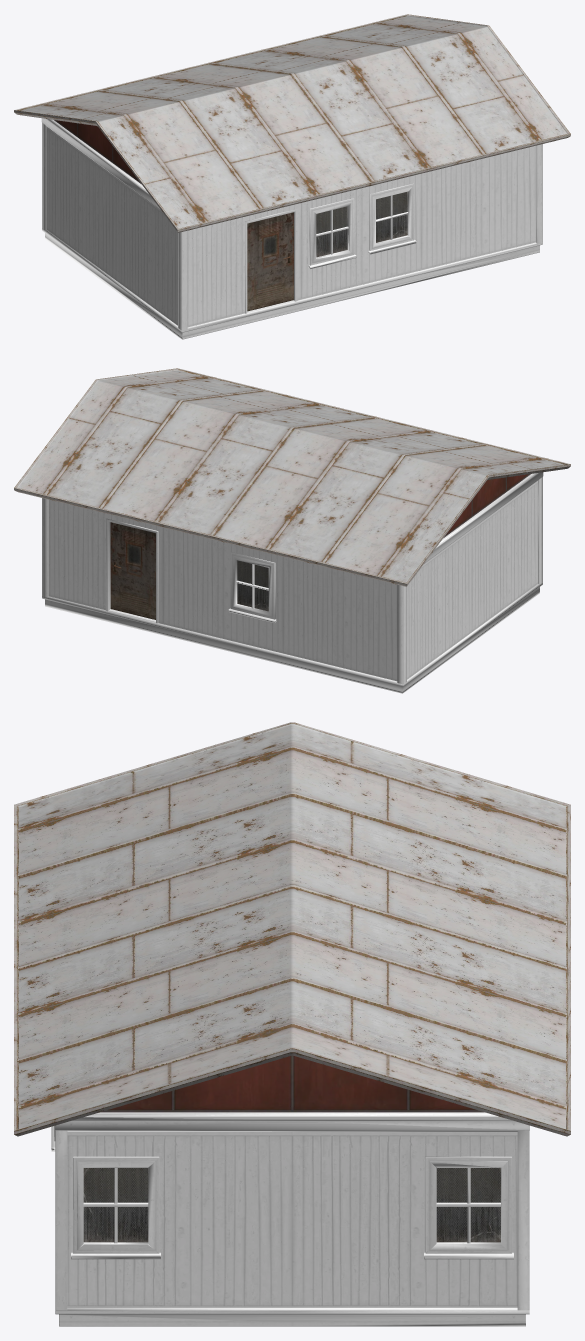
The model's file is nuclear_missile_silo_portacabin_building_600_900_a.glb.
3 renders of one model, top to bottom at view 1: azimuth 30°, elevation 25°; view 2: azimuth 150°, elevation 25°; view 3: azimuth 270°, elevation 25°, orthographic. The views are drawn at different scales.
Parts seen in each view (by area): view 1: portacabin_building_roof_600_900_b, portacabin_600_900_a_LOD0, industrial_doors_a_d_static (2); view 2: portacabin_building_roof_600_900_b, portacabin_600_900_a_LOD0, industrial_doors_a_d_static (3); view 3: portacabin_building_roof_600_900_b, portacabin_600_900_a_LOD0.
Part boxes in pixels (<box>): portacabin_building_roof_600_900_b: <box>14,14,570,232</box>; portacabin_600_900_a_LOD0: <box>41,118,542,339</box>; industrial_doors_a_d_static (2): <box>247,212,293,311</box>; portacabin_building_roof_600_900_b: <box>14,368,570,586</box>; portacabin_600_900_a_LOD0: <box>42,472,543,693</box>; industrial_doors_a_d_static (3): <box>110,522,155,619</box>; portacabin_building_roof_600_900_b: <box>14,722,570,1136</box>; portacabin_600_900_a_LOD0: <box>51,1112,529,1326</box>.
Bounding box in the file's own units: 9.85 × 4.12 × 7.1.
Materials: 8 (8 with a texture image).
